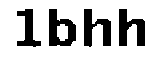1: (14, 4, 44, 50)
b: (46, 7, 78, 50)
h: (80, 4, 113, 52), (117, 6, 148, 51)
